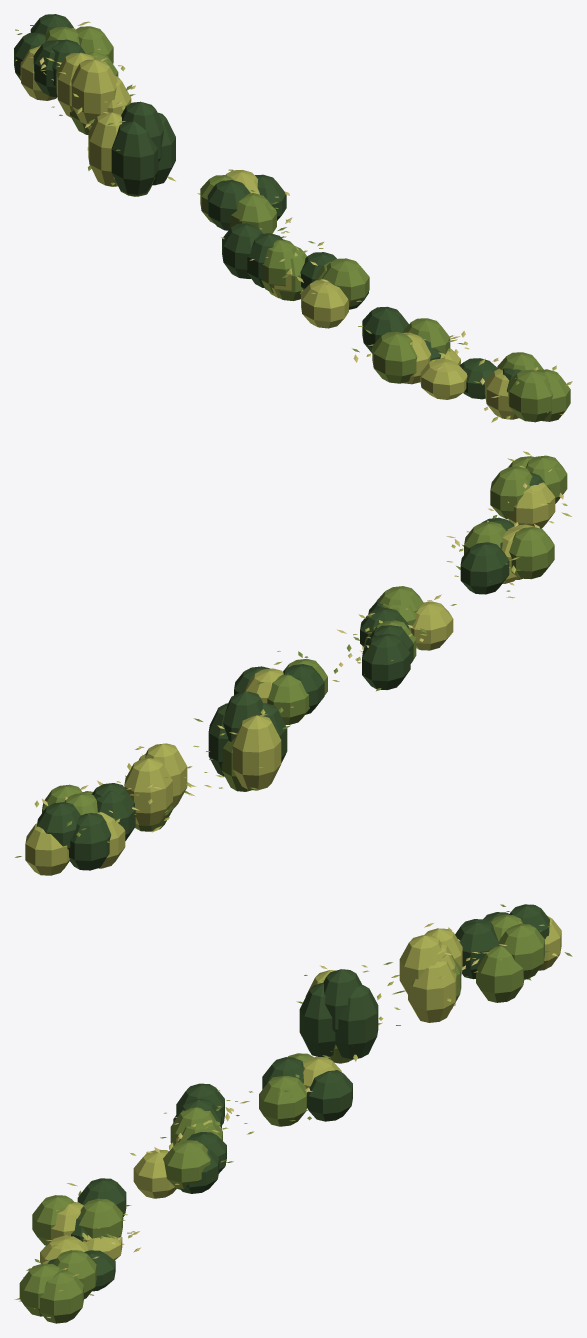
Rendered from Garden_LeafyHedge_04.obj.
3 renders of one model, top to bottom at view 1: azimuth 30°, elevation 25°; view 2: azimuth 150°, elevation 25°; view 3: azimuth 330°, elevation 25°, orthographic.
Visible parts, largest first — view 1: Garden_LeafyHedge_04; view 2: Garden_LeafyHedge_04; view 3: Garden_LeafyHedge_04.
Part boxes in pixels (bbox=[...]): Garden_LeafyHedge_04: bbox=[14, 14, 572, 422]; Garden_LeafyHedge_04: bbox=[15, 451, 571, 875]; Garden_LeafyHedge_04: bbox=[14, 904, 572, 1323].
Size of the model in its own units: 3.17 by 2.37 by 22.79.
1 material, 1 textured.
